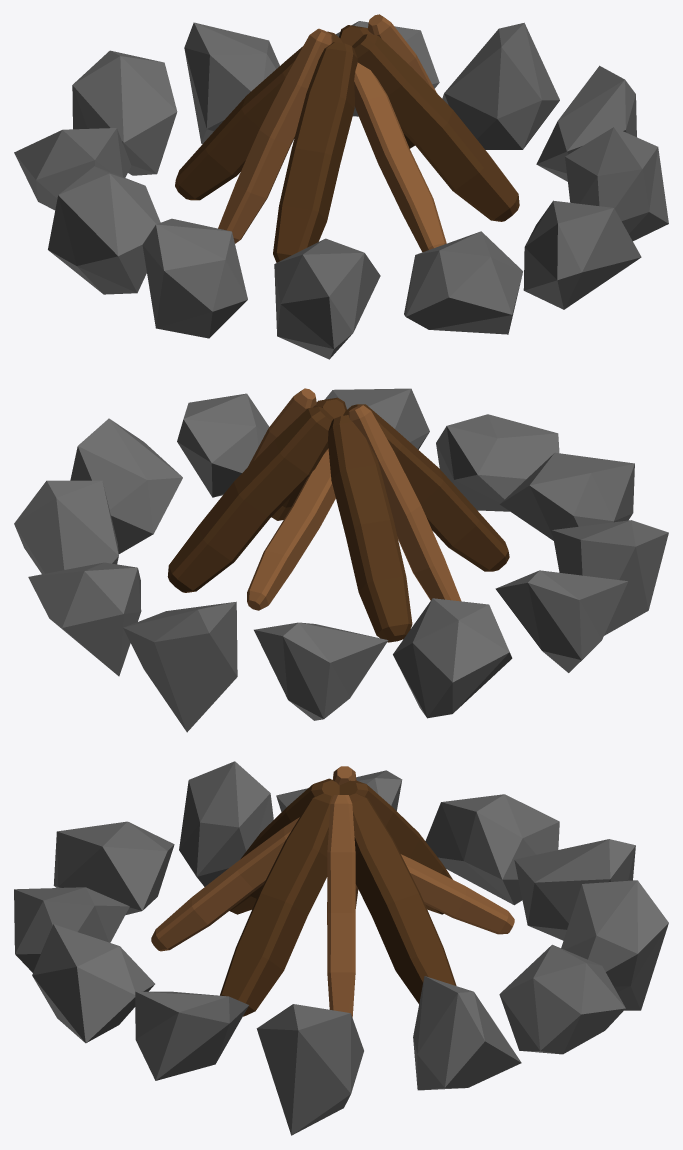
Rendered from firePit (1).fbx.
3 views of the same model, one above another, from view 1: azimuth 30°, elevation 25°; view 2: azimuth 150°, elevation 25°; view 3: azimuth 270°, elevation 25° (orthographic).
Visible parts, largest first — view 1: Cube.023; view 2: Cube.023; view 3: Cube.023.
Boxes of the visible parts, x1,y1,x2,y2 form: Cube.023: (14,14,668,359); Cube.023: (14,388,668,732); Cube.023: (14,761,668,1135).
Size of the model in its own units: 141 by 56.94 by 146.
